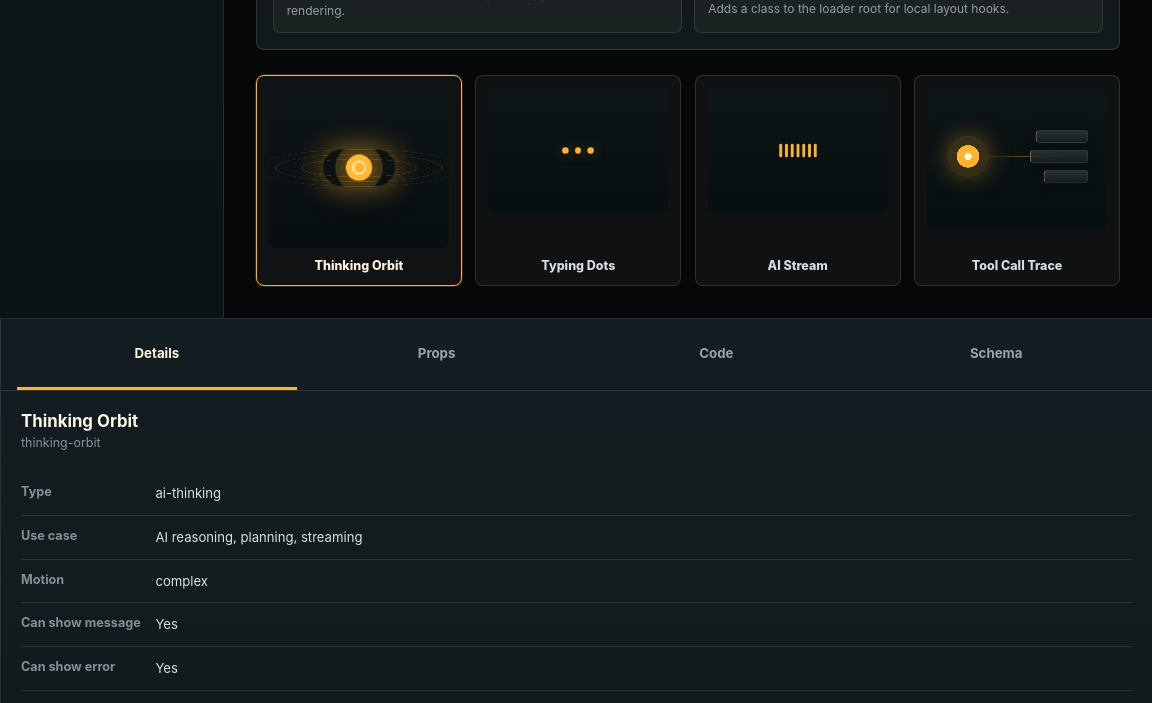
Scenario: gallery app › shows schema details in the inspector
(page scrolled)
Click the tab "Schema": (996, 354) [856, 319, 1136, 390]
(page scrolled)
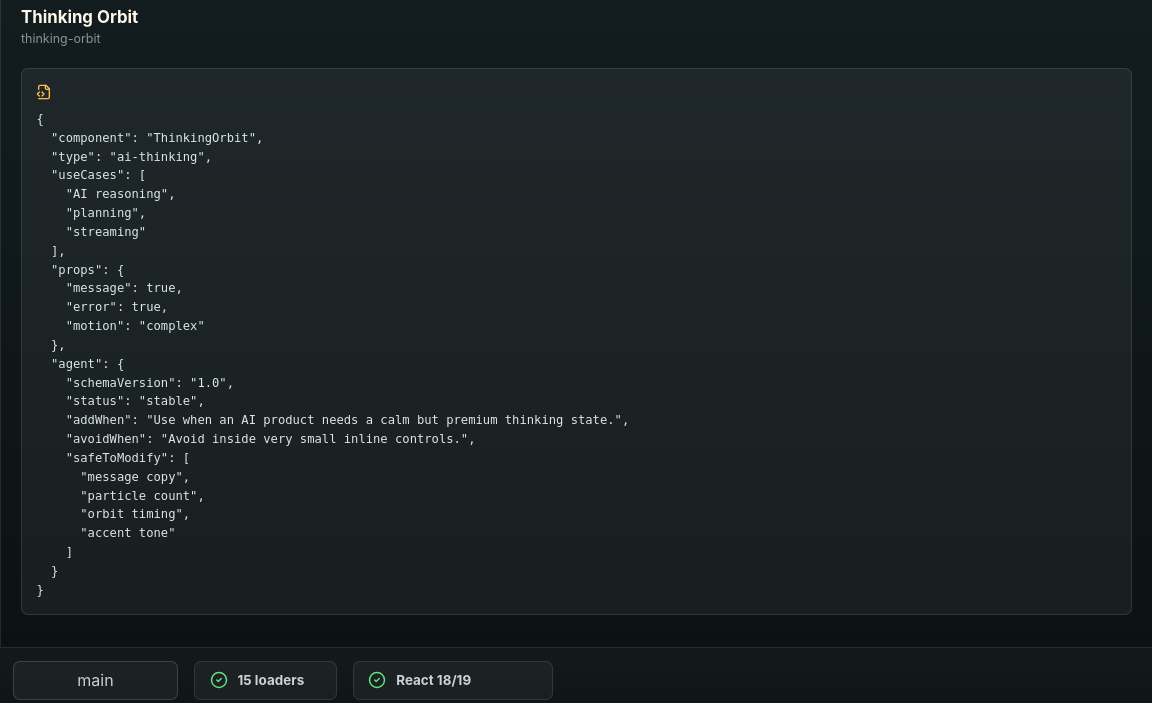
Result: the text "\"schemaVersion\": \"1.0\"" is shown at [36, 112, 629, 597]
